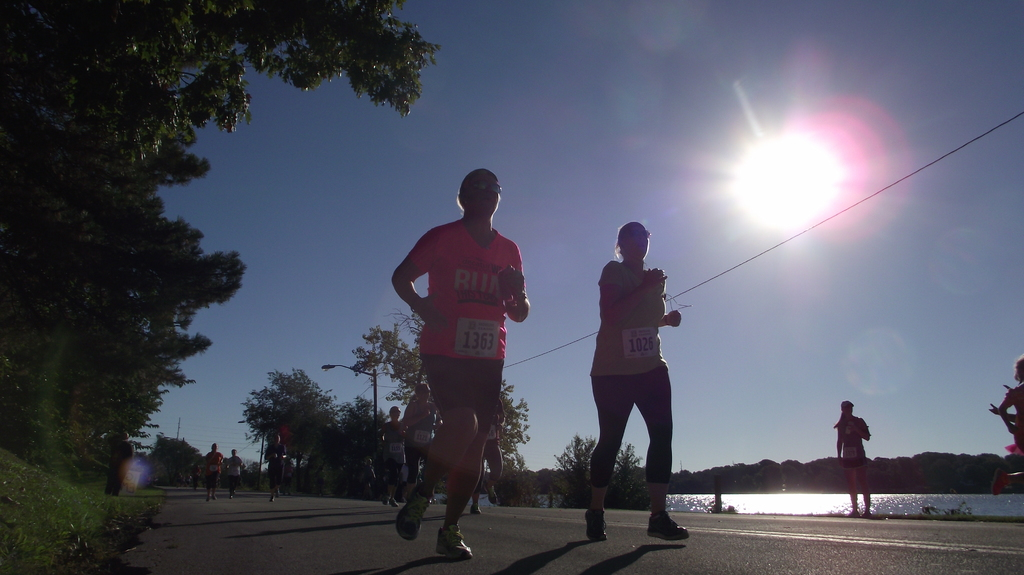Footwear: (394, 491, 435, 540), (648, 507, 692, 542), (438, 523, 476, 562), (584, 509, 611, 540), (486, 486, 497, 505), (469, 502, 484, 514), (271, 486, 282, 497), (380, 494, 392, 503), (205, 492, 213, 502), (228, 490, 236, 500), (393, 500, 400, 508), (268, 497, 275, 502)
